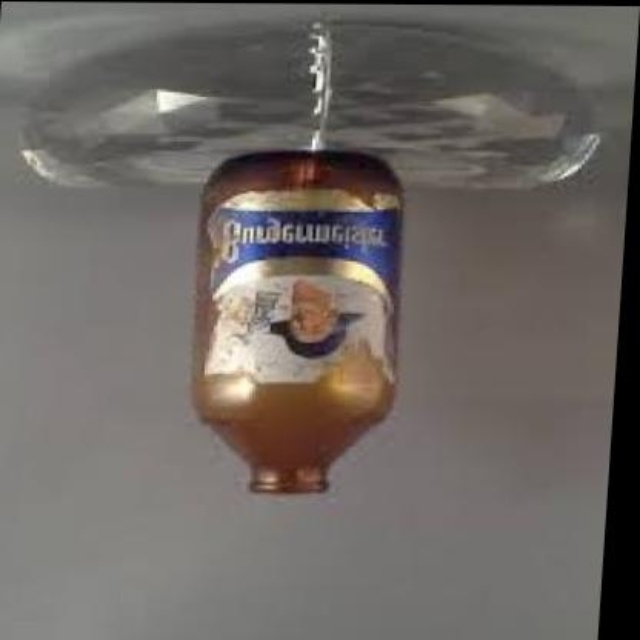trash: (195, 151, 400, 491)
